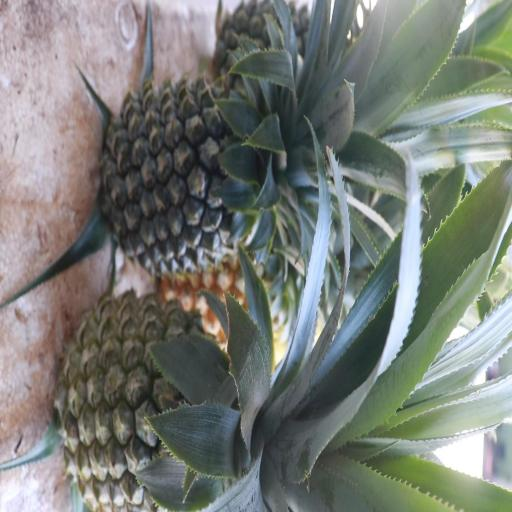------------------------------: (63, 296, 279, 512)
